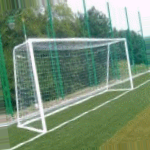goals: (12, 37, 133, 135)
